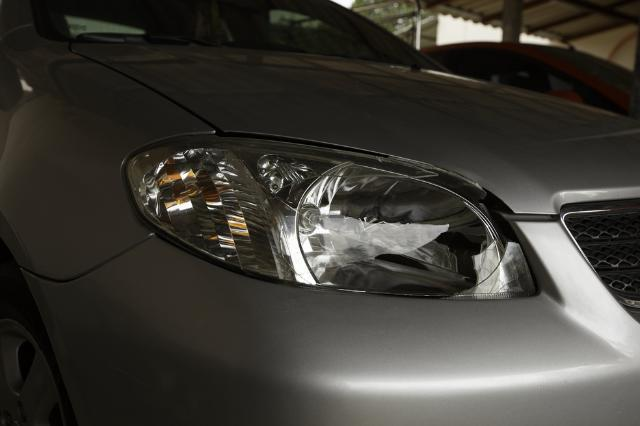Light: (321, 178, 510, 296)
